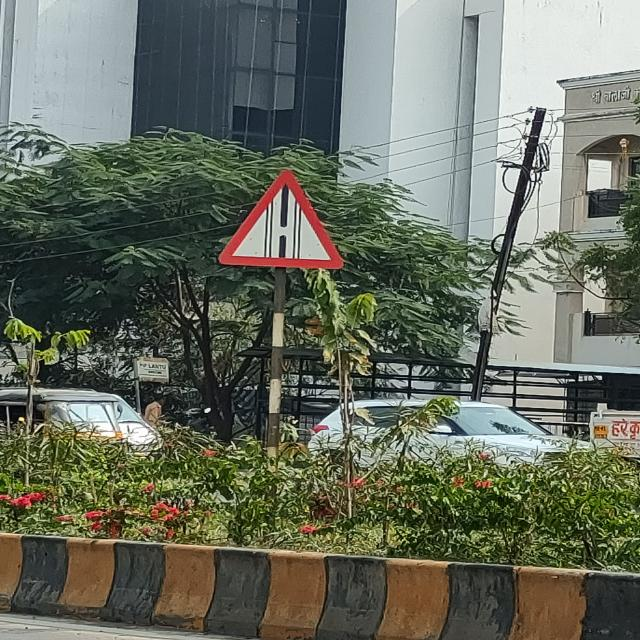ferry: (218, 168, 346, 272)
